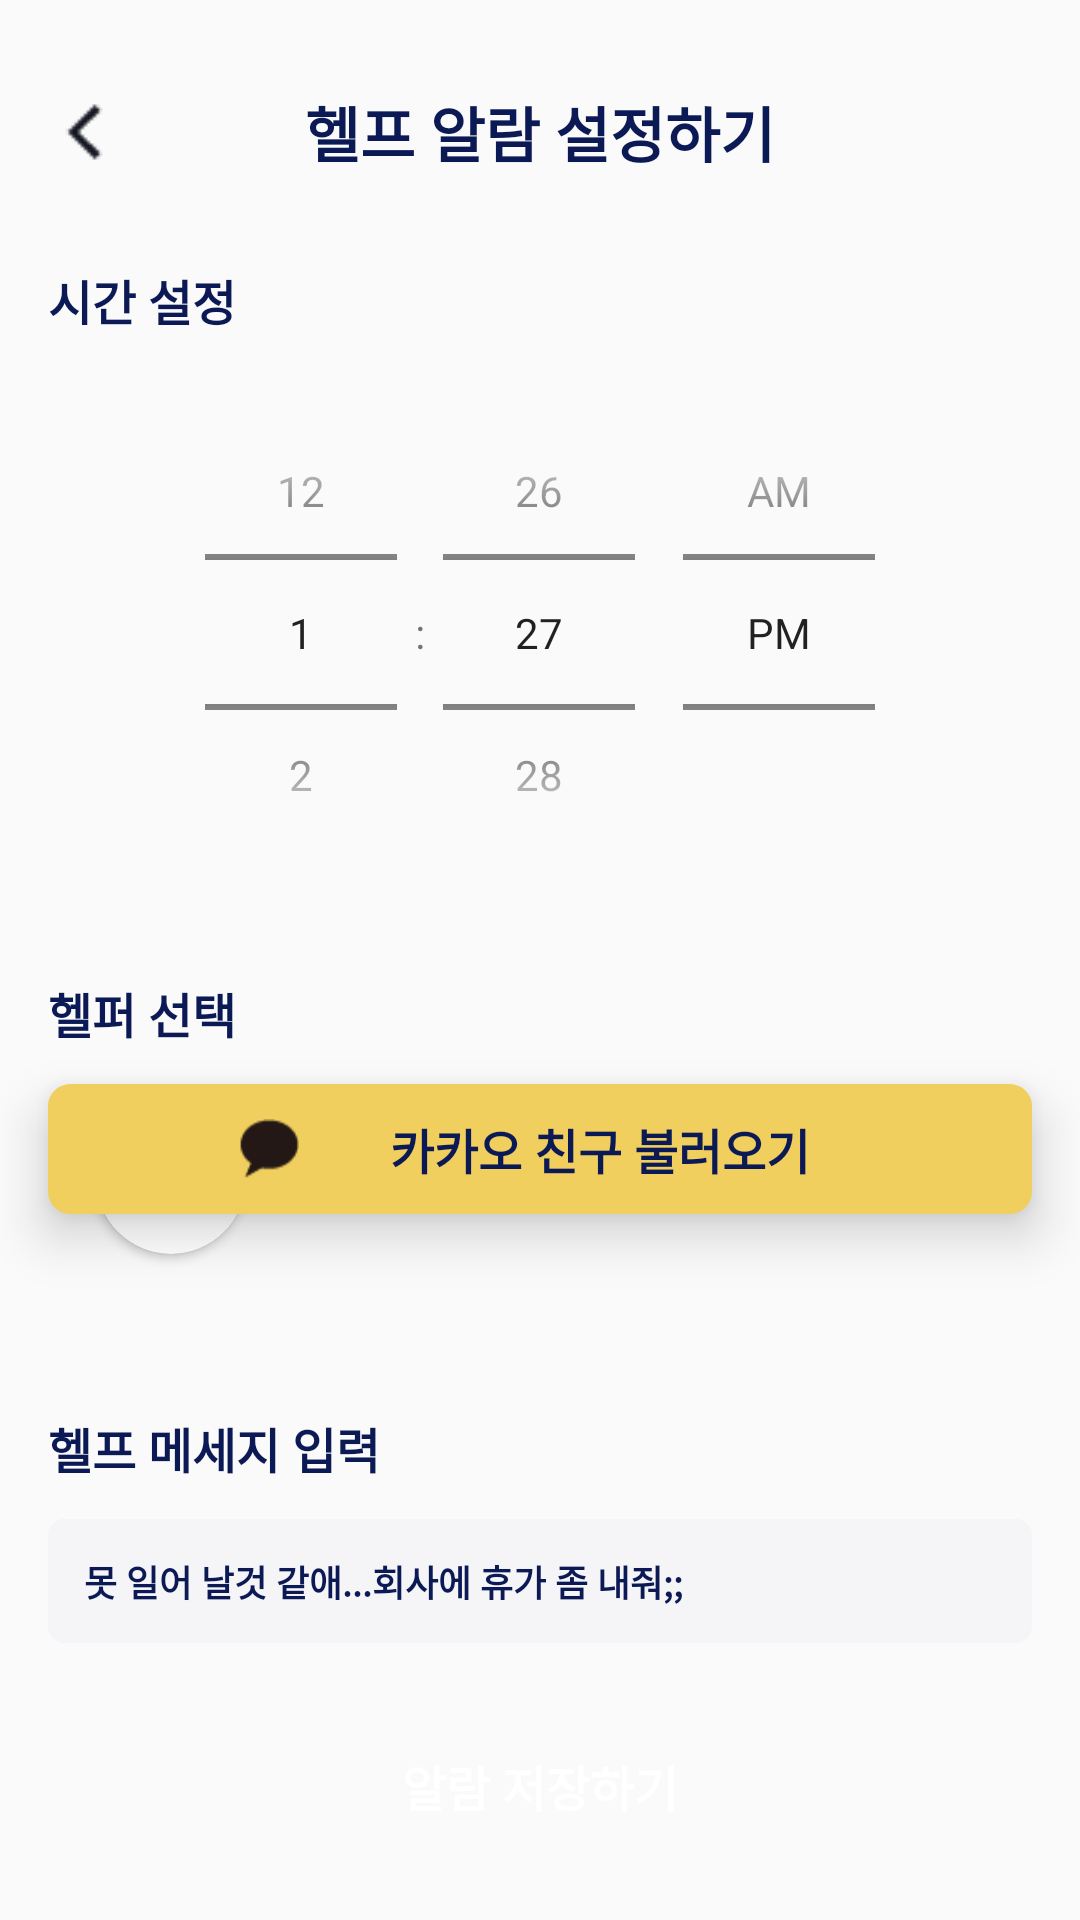

Point at icon controls on the screen. Image size 1080x1920, points as (x,y).
arrow cancel: (84,132)
